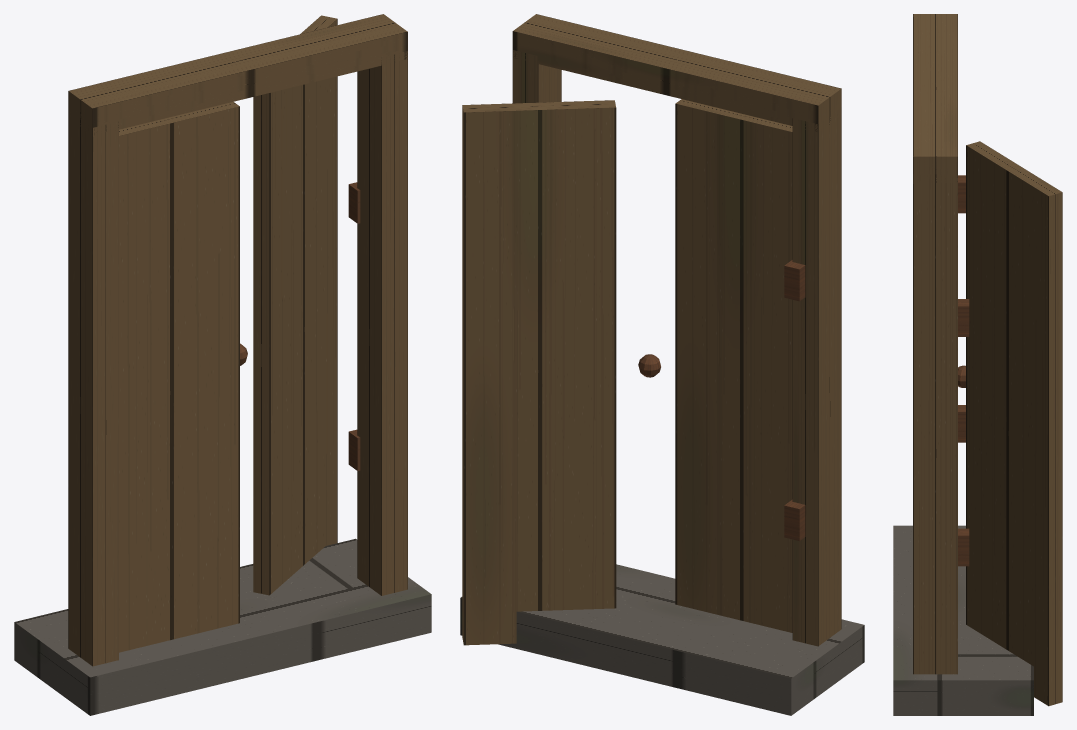
Rendered from nha-hoang-cua-go-muc.glb.
The picture shows the model from 3 angles, left to right: view 1: azimuth 30°, elevation 25°; view 2: azimuth 150°, elevation 25°; view 3: azimuth 270°, elevation 25°; orthographic projection. The views are drawn at different scales.
Visible parts, largest first — view 1: nha-hoang-cua-go-muc; view 2: nha-hoang-cua-go-muc; view 3: nha-hoang-cua-go-muc.
Boxes of the visible parts, x1,y1,x2,y2 form: nha-hoang-cua-go-muc: (14,14,431,715); nha-hoang-cua-go-muc: (460,14,864,715); nha-hoang-cua-go-muc: (893,14,1062,715).
Bounding box in the file's own units: 1.3 × 2.17 × 0.6016.
3 materials, 3 textured.
